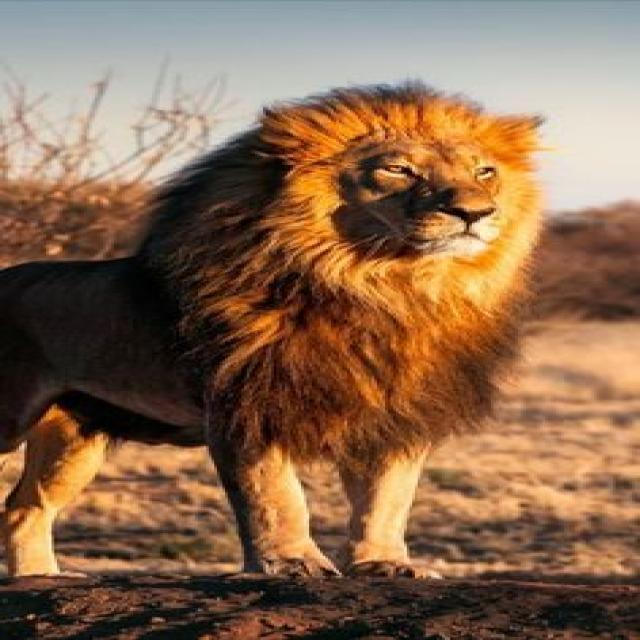lions: (0, 39, 621, 590)
